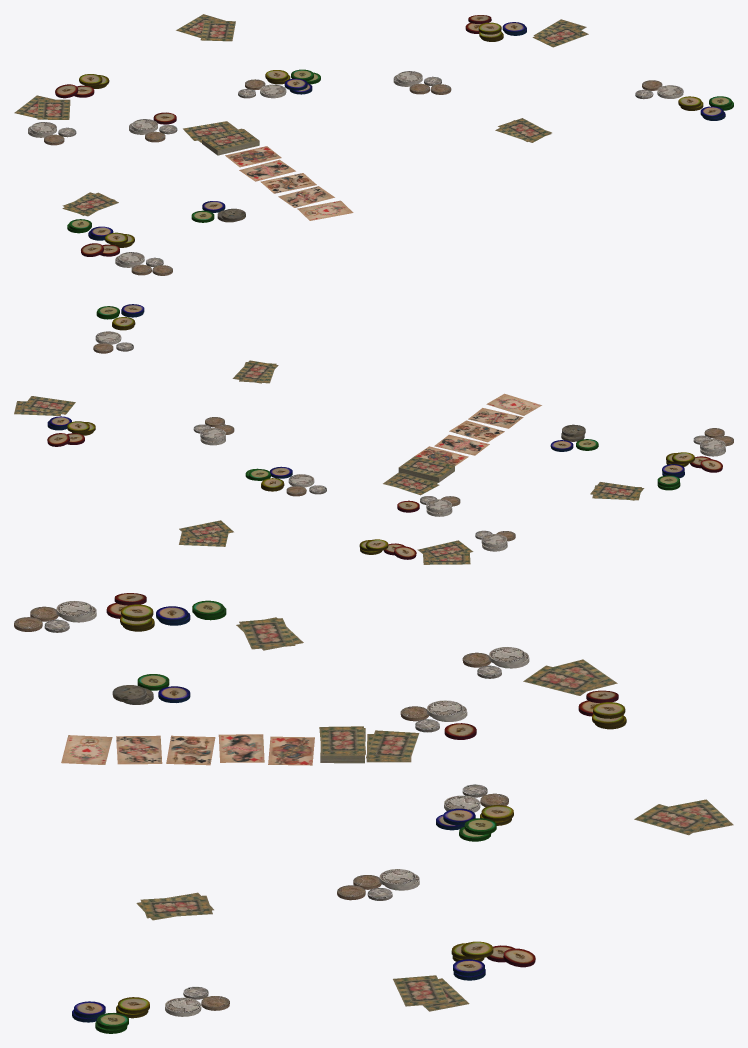
Rendered from pokerdeck.DAE.
3 renders of one model, top to bottom at view 1: azimuth 30°, elevation 25°; view 2: azimuth 150°, elevation 25°; view 3: azimuth 270°, elevation 25°, orthographic. The views are drawn at different scales.
Parts seen in each view (by area): view 1: Cylinder032; view 2: Cylinder032; view 3: Cylinder032.
Boxes of the visible parts, x1=… form: Cylinder032: x1=14, y1=14, x2=733, y2=275; Cylinder032: x1=14, y1=304, x2=733, y2=564; Cylinder032: x1=14, y1=593, x2=733, y2=1033.
Bounding box in the file's own units: 2.79 × 0.0297 × 1.94.
